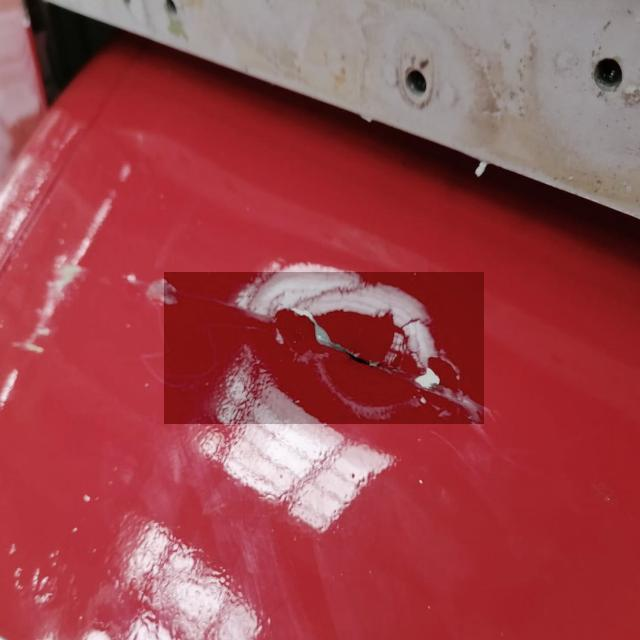crack: (165, 273, 485, 425)
